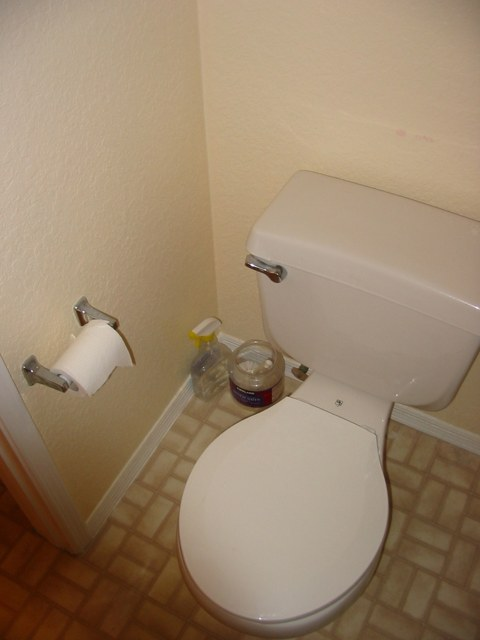toilet_paper: (52, 318, 135, 397)
